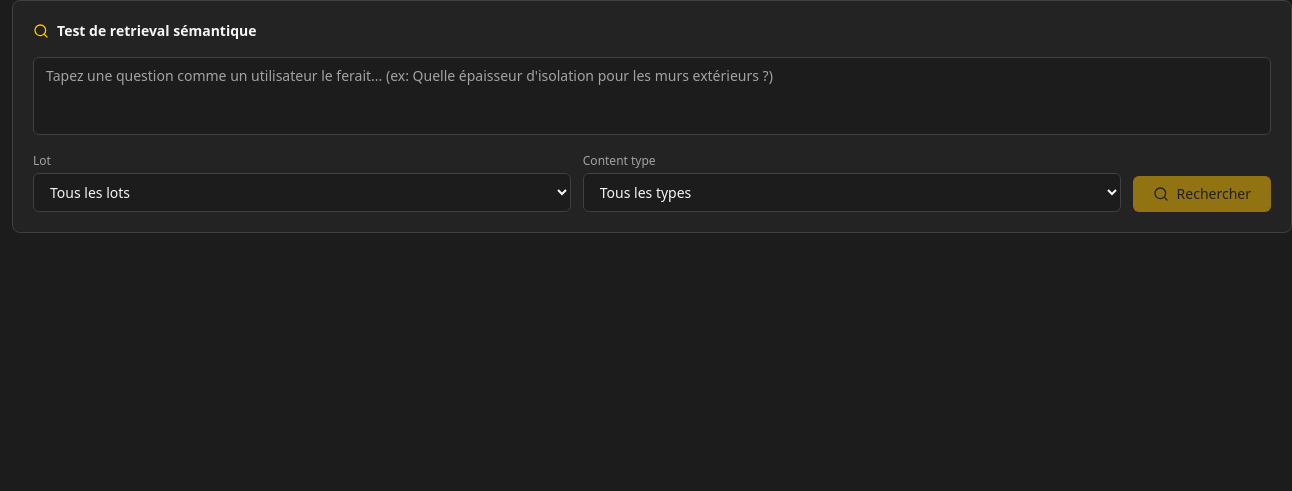
it: RetrievalPlayground — a failed search leaves a trace on screen › renders the results when the search succeeded
Type "épaisseur isolation" into the text box at (652, 96), box [33, 57, 1271, 135]
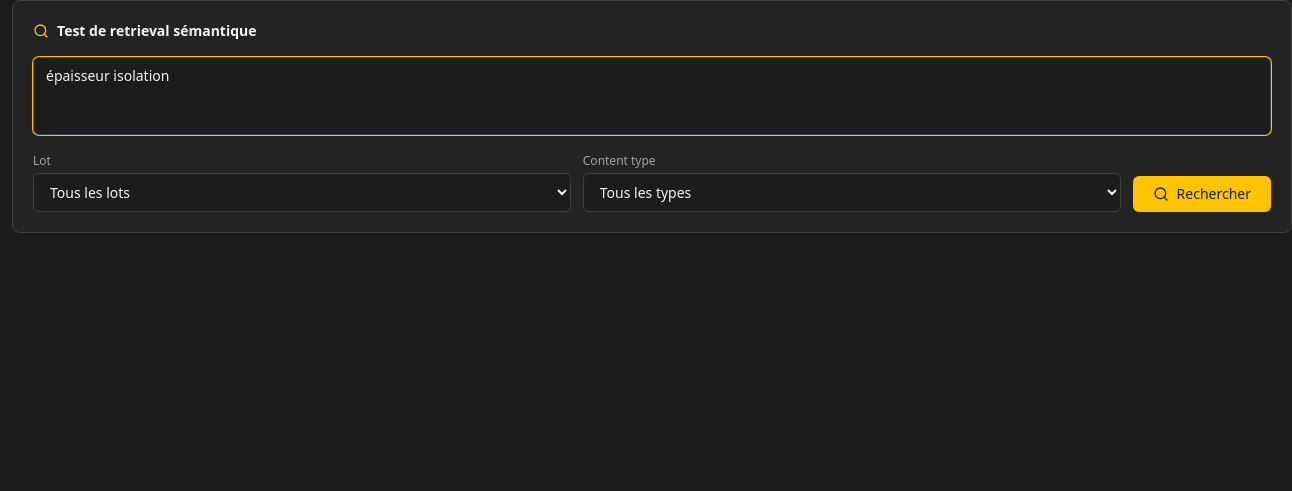
Click the button "Rechercher" at (1202, 194), box [1133, 176, 1271, 212]
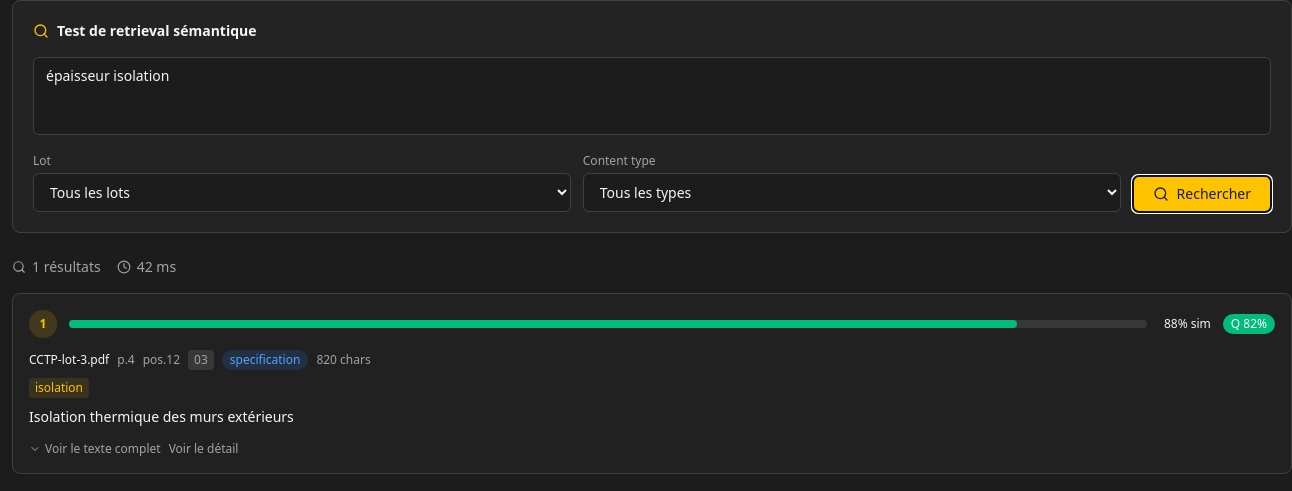
Now the text "1 résultats" is shown, box [12, 257, 101, 277]
